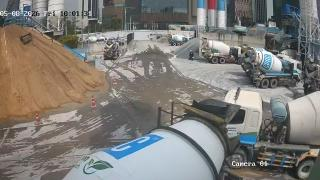cement_mixer_truck: (58, 104, 244, 180), (218, 82, 320, 177), (243, 51, 302, 85), (199, 34, 242, 64), (302, 60, 320, 93), (267, 46, 300, 58), (103, 39, 120, 60), (168, 34, 193, 45), (246, 45, 269, 52), (95, 37, 106, 44)
